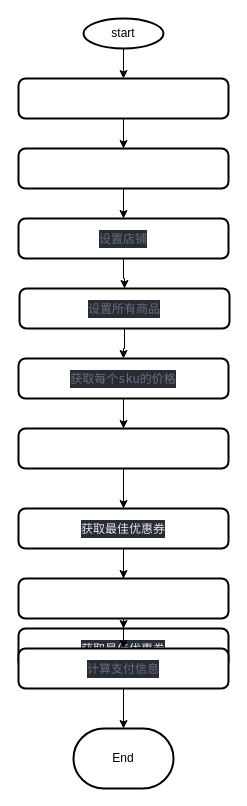
Some shapes in this 247 by 806 pixel diagram are drawn without their labels. Here are the shapes that lost their labels. From the top down, the centre of each, then its label:
(123,98): 校验数据 validate
(123,168): 根据用户ID，设置地址
(123,448): 默认设置支付方式为微信支付
(123,598): 初始化结算单
